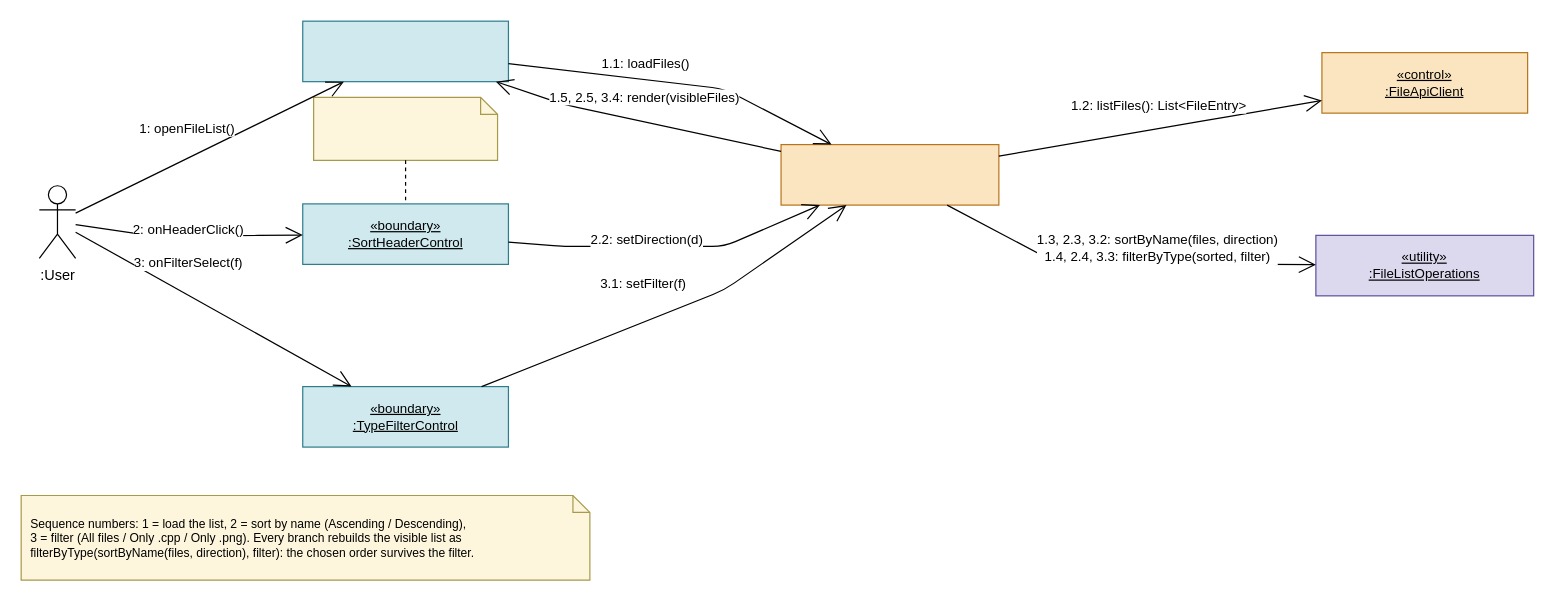
Some shapes in this 1555 by 601 pixel diagram are drawn without their labels. Here are the shapes that lost their labels. From the top down, the box of each, then its label:
(302, 20, 508, 82): «boundary» :FileTableView
(312, 96, 498, 160): 2.1: toggleDirection() (self-call)
(780, 143, 999, 205): «control» :FileListController
